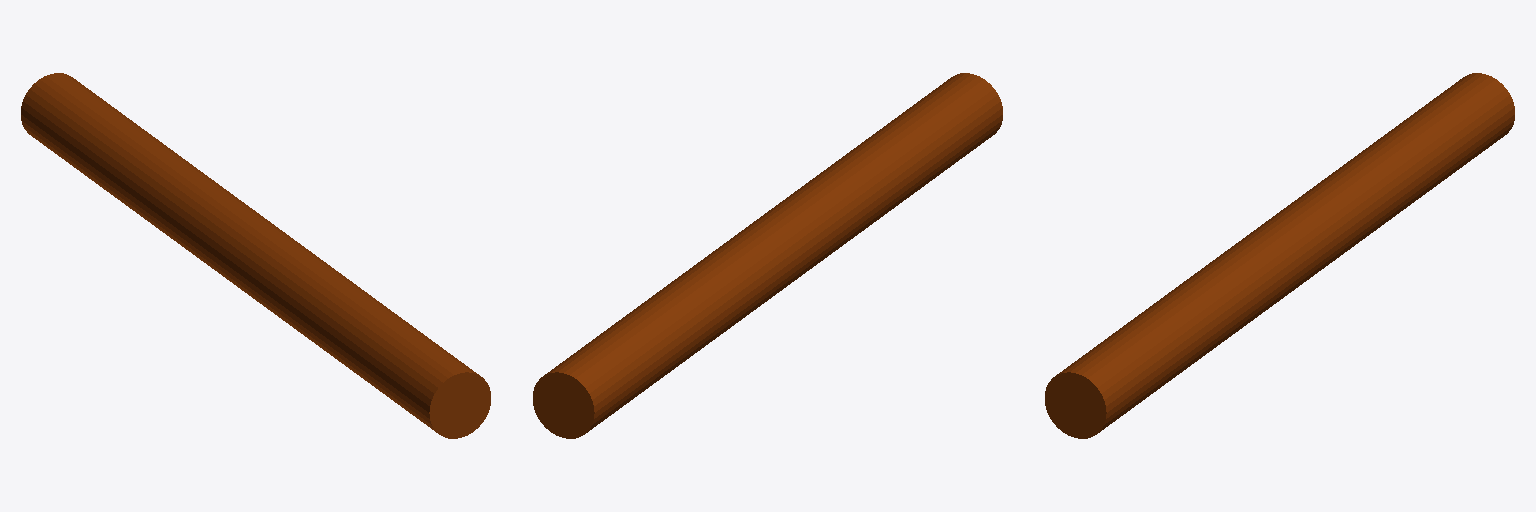
The robot description file, URDF, robot "cylinder":
<?xml version="1.0" ?>
<!-- =================================================================================== -->
<!-- |    This document was autogenerated by xacro from cylinder.xacro                 | -->
<!-- |    EDITING THIS FILE BY HAND IS NOT RECOMMENDED                                 | -->
<!-- =================================================================================== -->
<robot name="cylinder">
  <link name="world"/>
  <link name="base">
    <visual>
      <origin rpy="1.57079633 0 0" xyz="0 0 0"/>
      <geometry>
        <cylinder length="7.07106781185" radius="0.31"/>
      </geometry>
      <material name="cylinder_material">
        <color rgba="0.545 0.271 0.075 1.0"/>
        <texture filename="../textures/tree_bark.jpg"/>
      </material>
    </visual>
    <collision>
      <origin rpy="1.57079633 0 0" xyz="0 0 0"/>
      <geometry>
        <cylinder length="7.07106781185" radius="0.31"/>
      </geometry>
    </collision>
    <inertial>
      <origin rpy="0 0 0" xyz="0 0 0"/>
      <mass value="1"/>
      <inertia ixx="4.190691666648428" ixy="0.0" ixz="0.0" iyy="4.190691666648428" iyz="0.0" izz="24.999999999890573"/>
    </inertial>
  </link>
  <joint name="base_joint" type="fixed">
    <parent link="world"/>
    <child link="base"/>
    <origin rpy="0 0 0" xyz="0.0 0.0 0.0"/>
  </joint>
</robot>

--- What the picture shows (computed from the rendered views, not written in the file) ---
The picture shows the robot from 3 angles, left to right: view 1: azimuth 30°, elevation 25°; view 2: azimuth 150°, elevation 25°; view 3: azimuth 330°, elevation 25°; orthographic projection.
Robot: cylinder — 2 links, 1 joints (1 fixed); root link world; default pose: all joints at 0.
Links seen in each view (by area): view 1: base; view 2: base; view 3: base.
Boxes of the visible links, x1,y1,x2,y2 form: base: (21, 73, 490, 438); base: (533, 73, 1002, 438); base: (1045, 73, 1514, 438).
Bounding box of the posed robot: 0.62 × 7.07 × 0.62 m (x, y, z).
Geometry: primitives only (box / cylinder / sphere), no mesh files.
